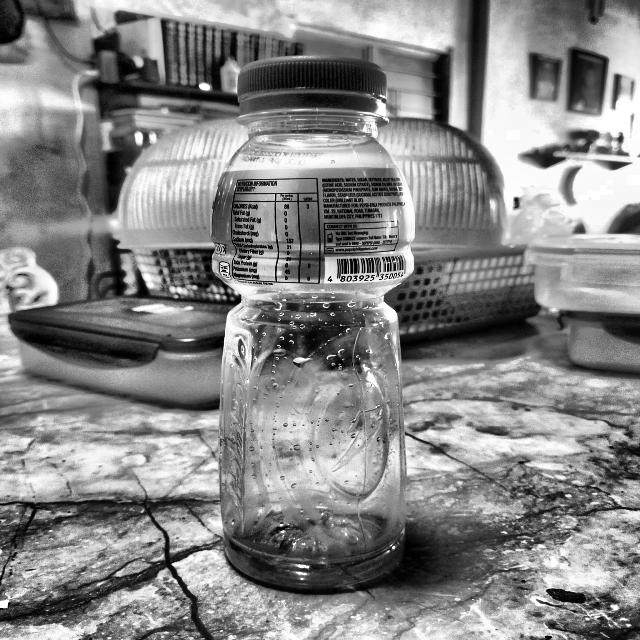Plastic-Bottle: (205, 52, 418, 596)
